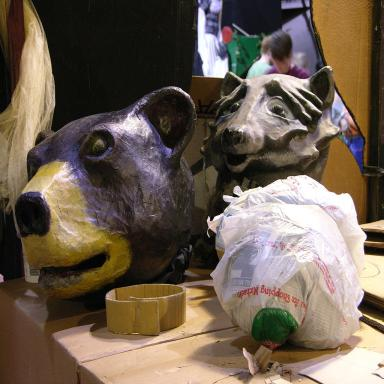plasticbag: (205, 173, 366, 348)
